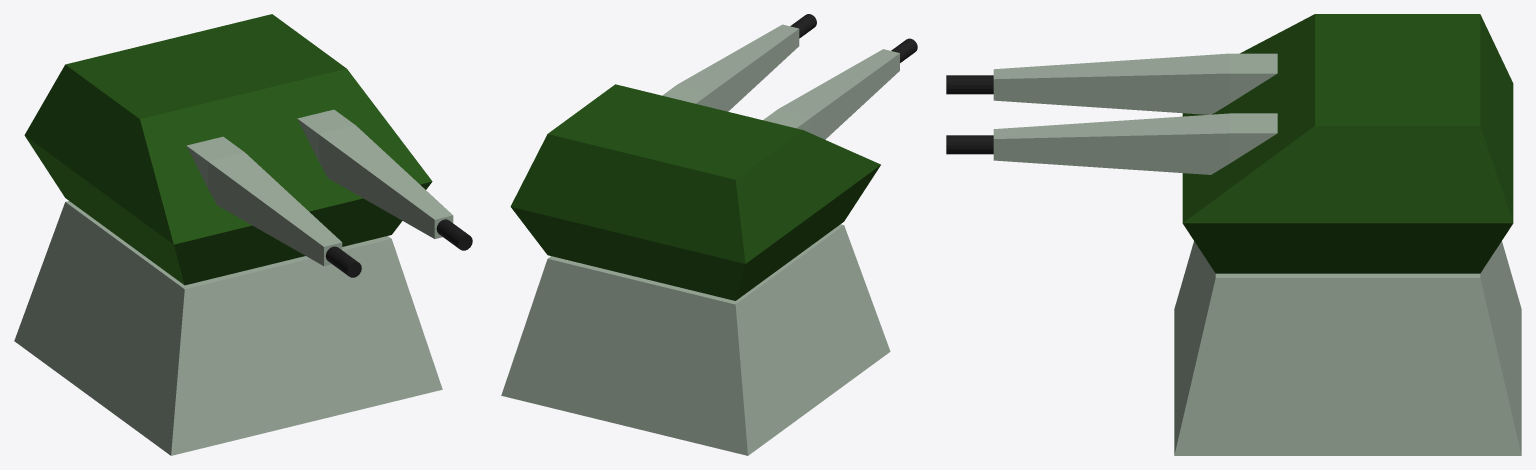
File: stationary_gun_2.glb
The picture shows the model from 3 angles, left to right: view 1: azimuth 30°, elevation 25°; view 2: azimuth 150°, elevation 25°; view 3: azimuth 270°, elevation 25°; orthographic projection. The views are drawn at different scales.
Parts seen in each view (by area): view 1: body, head_base, barrel_secondary_base, barrel_primary_base, barrel_primary_target, barrel_secondary_target; view 2: body, head_base, barrel_primary_base, barrel_secondary_base; view 3: head_base, body, barrel_primary_base, barrel_secondary_base, barrel_primary_target, barrel_secondary_target.
Part boxes in pixels (x1,y1,x2,y2): body: (14,201,442,455); head_base: (24,14,432,285); barrel_secondary_base: (297,109,453,238); barrel_primary_base: (186,136,342,265); barrel_primary_target: (325,246,361,277); barrel_secondary_target: (436,219,472,250); body: (501,224,890,455); head_base: (510,84,880,300); barrel_primary_base: (763,49,899,139); barrel_secondary_base: (662,24,799,111); head_base: (1182,14,1513,273); body: (1174,241,1521,455); barrel_primary_base: (993,53,1277,114); barrel_secondary_base: (993,113,1277,174); barrel_primary_target: (946,75,993,94); barrel_secondary_target: (946,135,993,154).
Size of the model in its own units: 0.294 by 0.292 by 0.487.
